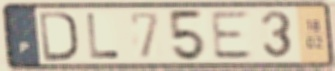3: (259, 9, 293, 61)
5: (167, 7, 209, 62)
7: (129, 10, 161, 60)
D: (37, 10, 80, 63)
E: (209, 9, 256, 62)
L: (85, 11, 121, 60)
